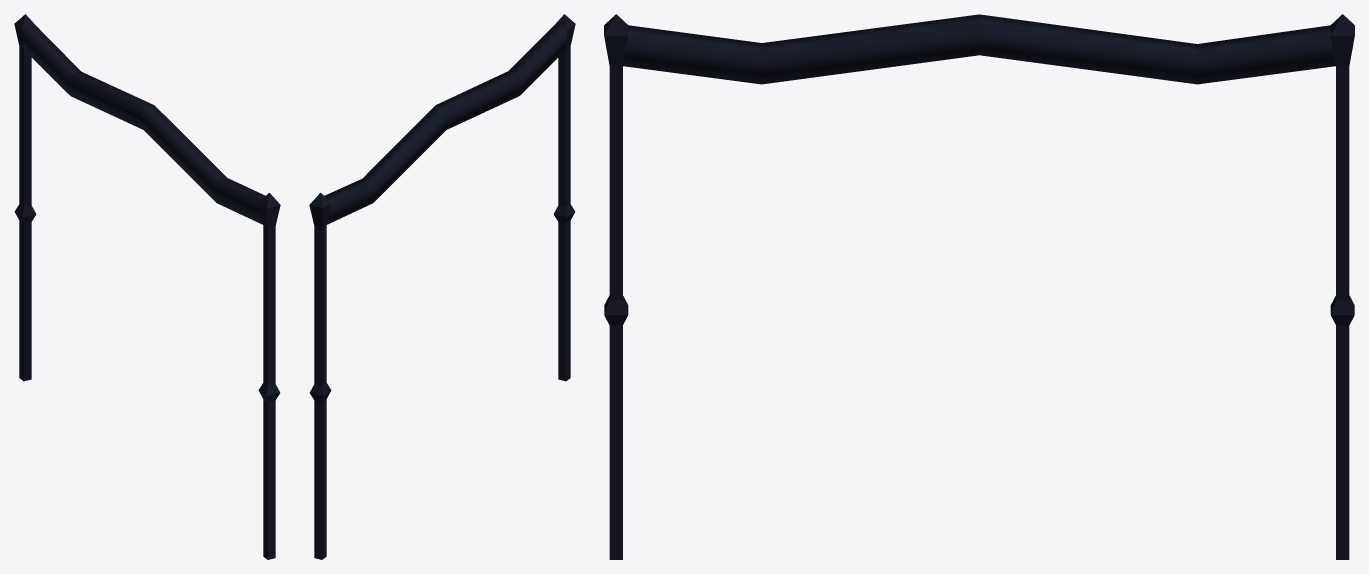
The model's file is BigClothGate.obj.
3 views of the same model, side by side, from view 1: azimuth 30°, elevation 25°; view 2: azimuth 150°, elevation 25°; view 3: azimuth 270°, elevation 25° (orthographic). The views are drawn at different scales.
Visible parts, largest first — view 1: 立方体.001; view 2: 立方体.001; view 3: 立方体.001.
Part boxes in pixels (x1=…): 立方体.001: x1=14, y1=14, x2=280, y2=559; 立方体.001: x1=309, y1=14, x2=575, y2=559; 立方体.001: x1=604, y1=14, x2=1354, y2=559.
Size of the model in its own units: 0.3356 by 8.25 by 10.34.
Materials: 2 (2 with a texture image).
